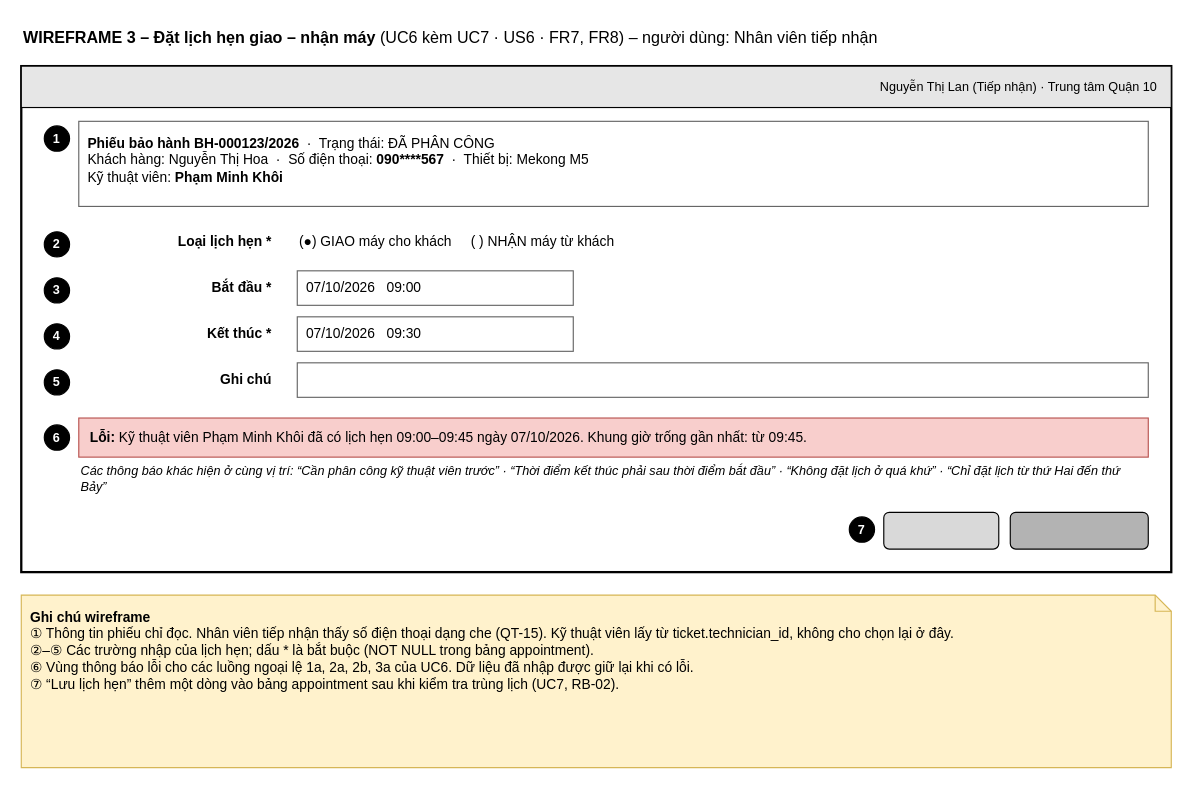
Image size: 1191x788. Some labels were removed from this diagram. The box of each missing label's shape, as (x1, y1, x2, y2) in pixels:
Hủy: (883, 511, 999, 549)
Khách hẹn lấy máy buổi sáng: (296, 362, 1148, 397)
Lưu lịch hẹn: (1009, 511, 1148, 549)
Smart CRM – Mekong Mobile | Đặt lịch hẹn giao – nhận máy: (20, 65, 1171, 108)
